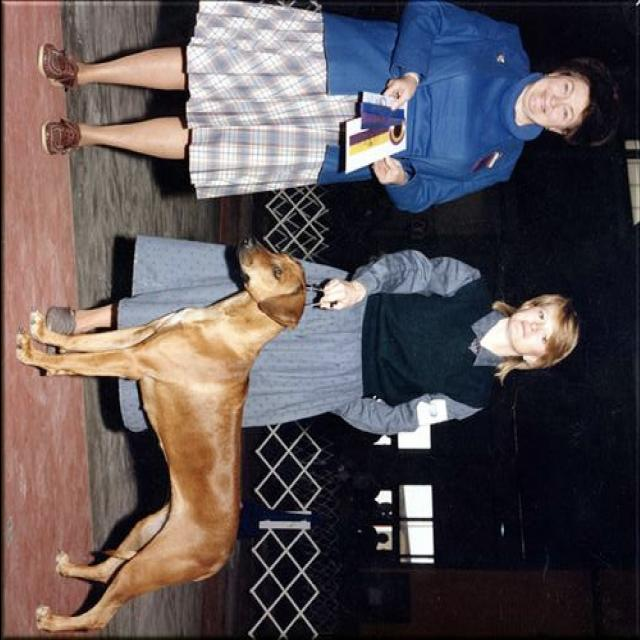rhodesian_ridgeback: (13, 237, 307, 623)
